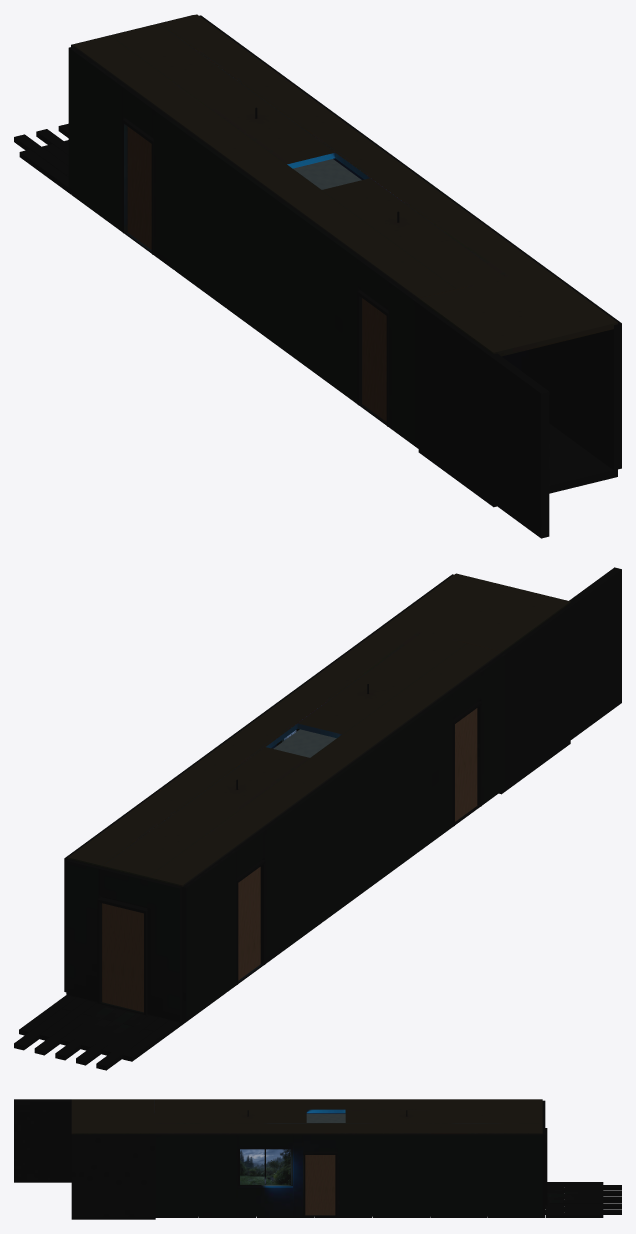
Rendered from hallway-baked.glb.
3 renders of one model, top to bottom at view 1: azimuth 30°, elevation 25°; view 2: azimuth 150°, elevation 25°; view 3: azimuth 270°, elevation 25°, orthographic. The views are drawn at different scales.
Parts seen in each view (by area): view 1: Integrated corridor wall.002, Den shared wall extension UV, Hall ceiling beside hatch UV, Hall ceiling beside hatch UV.001, Hall landing ceiling UV, Hall landing right wall UV, Hall ceiling beyond hatch UV, Integrated corridor wall.004, Hall ceiling beyond hatch UV.001, Integrated corridor wall, Hall landing floor UV, Recessed unmarked door leaf.002 (+6 smaller); view 2: Integrated corridor wall.002, Den shared wall extension UV, Hall ceiling beside hatch UV, Hall ceiling beside hatch UV.001, Hall landing ceiling UV, Integrated corridor wall.004, Hall ceiling beyond hatch UV, Hall ceiling beyond hatch UV.001, Far wall beside recessed doorway, Far wall beside recessed doorway.001, Recessed unmarked door leaf.003, Integrated corridor wall (+8 smaller); view 3: Integrated corridor wall.010, Hall landing right wall UV, Integrated corridor wall.005, Den shared wall extension UV, Hall ceiling beside hatch UV.001, Hall ceiling beside hatch UV, Hall landing ceiling UV, Hall ceiling beyond hatch UV, Hall ceiling beyond hatch UV.001, Recessed unmarked door leaf.001, Rainy garden through hallway, Integrated corridor wall.007 (+14 smaller).
Part boxes in pixels (x1,y1,x2,y2): Integrated corridor wall.002: (153,109,361,403); Den shared wall extension UV: (414,300,549,538); Hall ceiling beside hatch UV: (72,35,456,299); Hall ceiling beside hatch UV.001: (159,14,542,276); Hall landing ceiling UV: (418,267,617,356); Hall landing right wall UV: (539,268,621,470); Hall ceiling beyond hatch UV: (111,23,335,168); Integrated corridor wall.004: (68,46,126,231); Hall ceiling beyond hatch UV.001: (322,178,504,288); Integrated corridor wall: (388,281,418,445); Hall landing floor UV: (418,425,617,507); Recessed unmarked door leaf.002: (127,126,151,249); Integrated corridor wall.002: (261,692,453,963); Den shared wall extension UV: (502,567,621,787); Hall ceiling beside hatch UV: (147,643,501,886); Hall ceiling beside hatch UV.001: (68,624,421,867); Hall landing ceiling UV: (387,573,570,653); Integrated corridor wall.004: (182,850,236,1021); Hall ceiling beyond hatch UV: (103,747,309,878); Hall ceiling beyond hatch UV.001: (297,632,465,738); Far wall beside recessed doorway: (147,879,182,1021); Far wall beside recessed doorway.001: (66,859,101,1001); Recessed unmarked door leaf.003: (102,903,143,1012); Integrated corridor wall: (478,653,505,804); Integrated corridor wall.010: (337,1134,542,1216); Hall landing right wall UV: (71,1134,155,1216); Integrated corridor wall.005: (155,1134,237,1216); Den shared wall extension UV: (14,1099,71,1182); Hall ceiling beside hatch UV.001: (155,1123,542,1134); Hall ceiling beside hatch UV: (155,1099,542,1112); Hall landing ceiling UV: (71,1099,155,1134); Hall ceiling beyond hatch UV: (345,1109,542,1122); Hall ceiling beyond hatch UV.001: (155,1109,306,1122); Recessed unmarked door leaf.001: (305,1155,335,1215); Rainy garden through hallway: (240,1149,290,1184); Integrated corridor wall.007: (237,1186,292,1216).
Size of the model in its own units: 2.99 by 3.52 by 21.04.
Materials: 28 (26 with a texture image).
